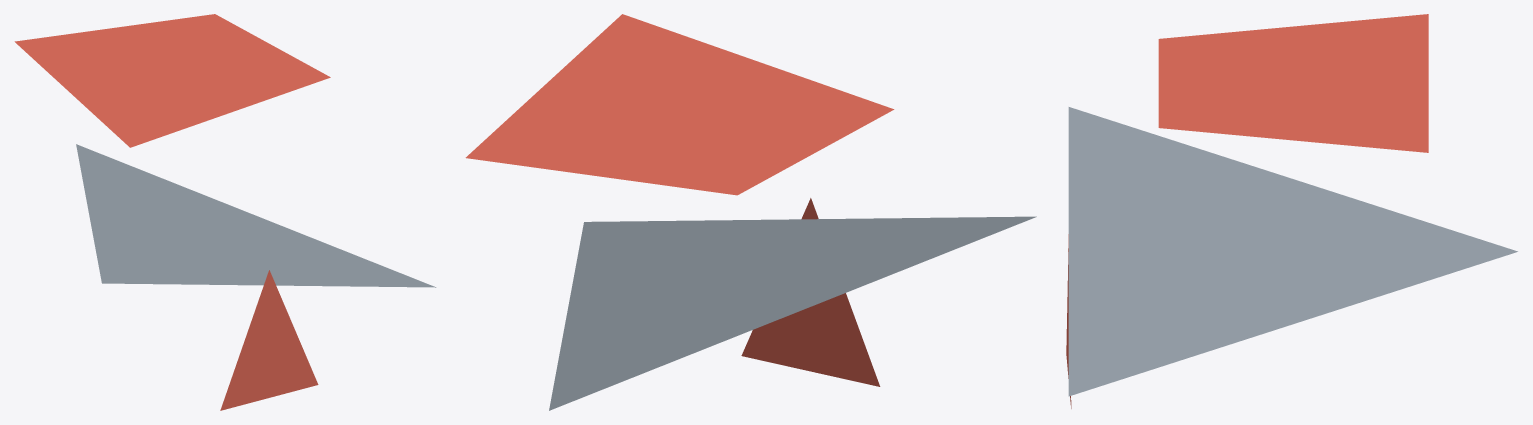
Rendered from SU_TechCenter_LOD2.glb.
3 views of the same model, side by side, from view 1: azimuth 30°, elevation 25°; view 2: azimuth 150°, elevation 25°; view 3: azimuth 270°, elevation 25° (orthographic). The views are drawn at different scales.
Parts seen in each view (by area): view 1: EntranceGate; view 2: EntranceGate; view 3: EntranceGate.
Boxes of the visible parts, left/top/right/bottom form: EntranceGate: left=14, top=14, right=436, bottom=410; EntranceGate: left=465, top=14, right=1036, bottom=410; EntranceGate: left=1066, top=14, right=1517, bottom=408.
Size of the model in its own units: 600 by 458 by 603.
